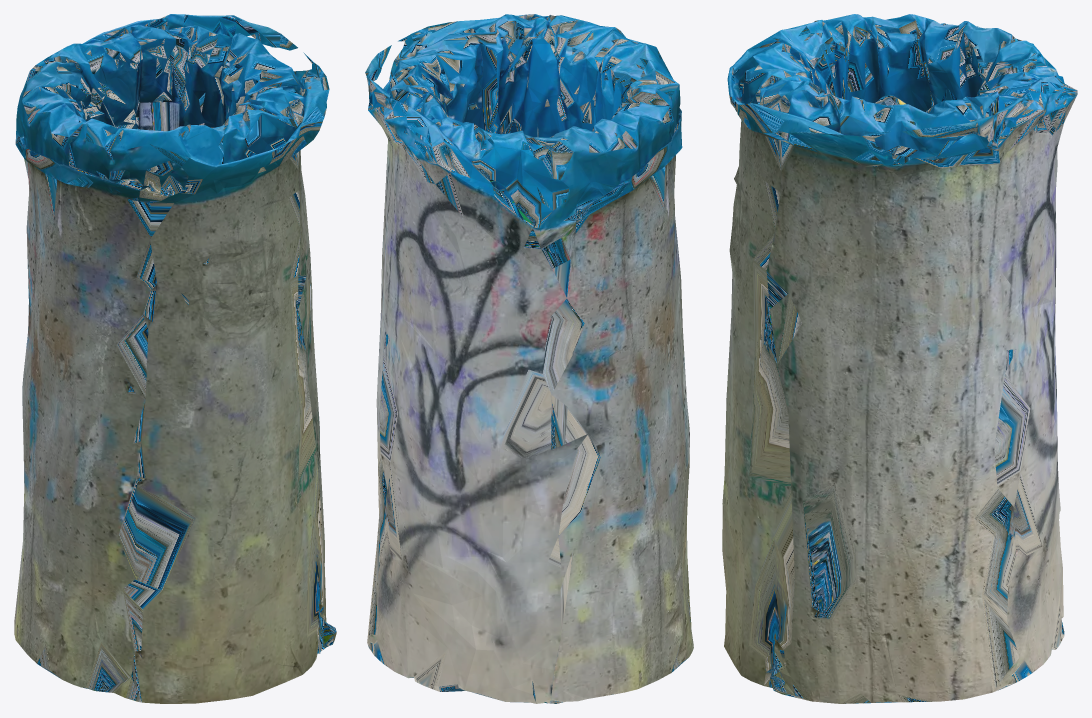
The model's file is concrete_trash_bin.glb.
3 views of the same model, side by side, from view 1: azimuth 30°, elevation 25°; view 2: azimuth 150°, elevation 25°; view 3: azimuth 270°, elevation 25° (orthographic). The views are drawn at different scales.
Parts seen in each view (by area): view 1: Object_2; view 2: Object_2; view 3: Object_2.
Part boxes in pixels (x1,y1,x2,y2): Object_2: [14, 14, 336, 703]; Object_2: [365, 14, 693, 703]; Object_2: [722, 14, 1077, 703].
Size of the model in its own units: 0.5232 by 1.04 by 0.5682.
1 material, 1 textured.
